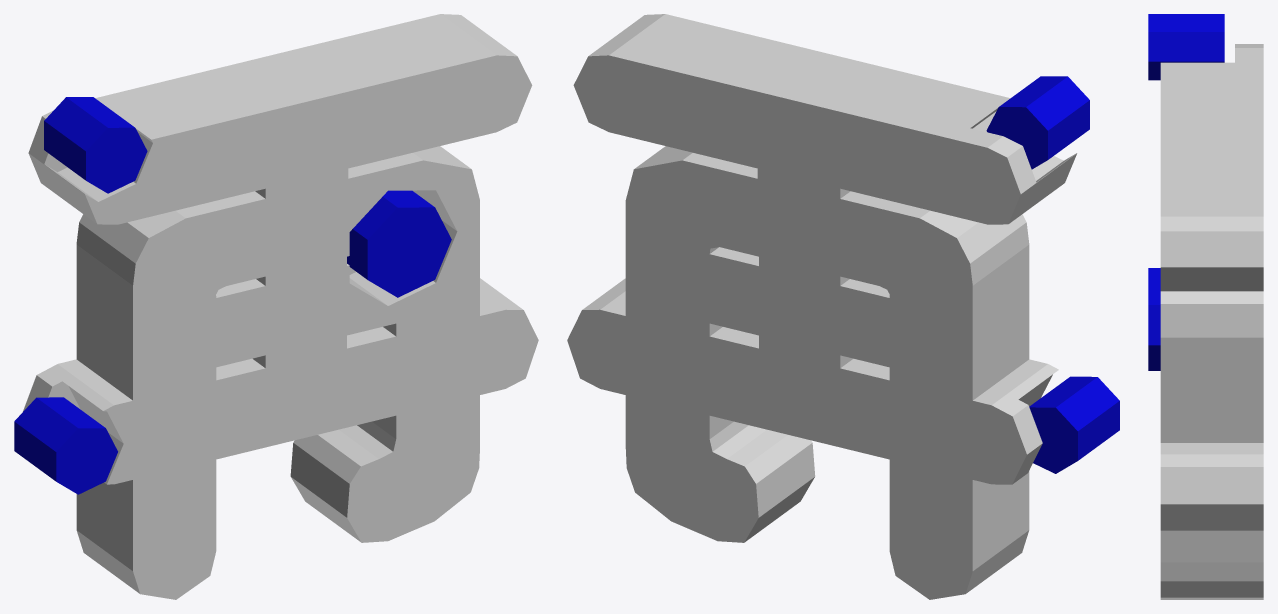
Rendered from Ch_Lite_China_再_01.fbx.
3 views of the same model, side by side, from view 1: azimuth 30°, elevation 25°; view 2: azimuth 150°, elevation 25°; view 3: azimuth 270°, elevation 25° (orthographic). The views are drawn at different scales.
Visible parts, largest first — view 1: sphere1; view 2: sphere1; view 3: sphere1.
Boxes of the visible parts, left/top/right/bottom form: sphere1: left=14, top=14, right=538, bottom=599; sphere1: left=567, top=14, right=1119, bottom=599; sphere1: left=1148, top=14, right=1263, bottom=599.
Size of the model in its own units: 0.999 by 0.9664 by 0.2242.
